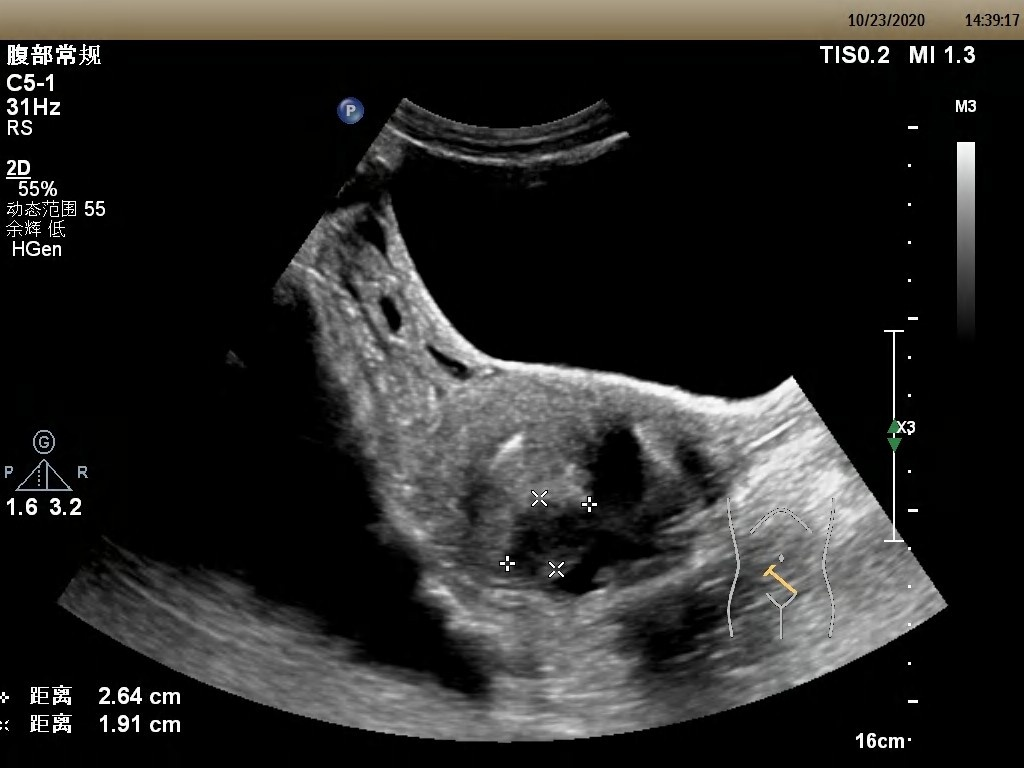肌瘤: (505, 501, 586, 576)
